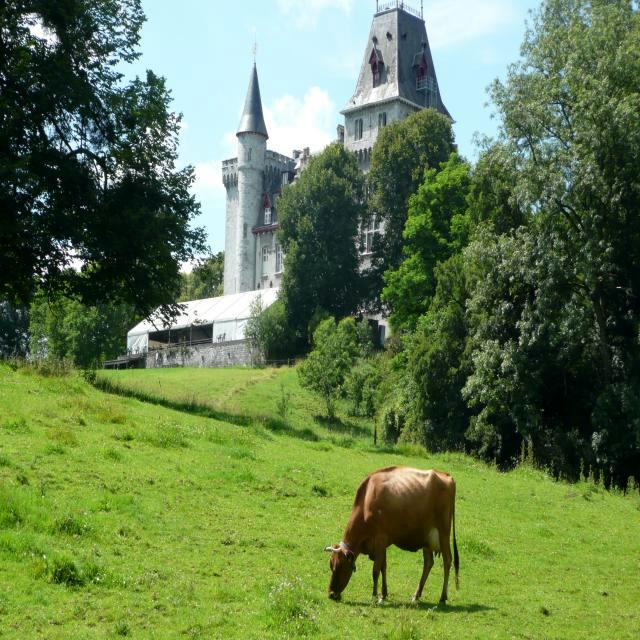COW: (325, 467, 459, 604)
